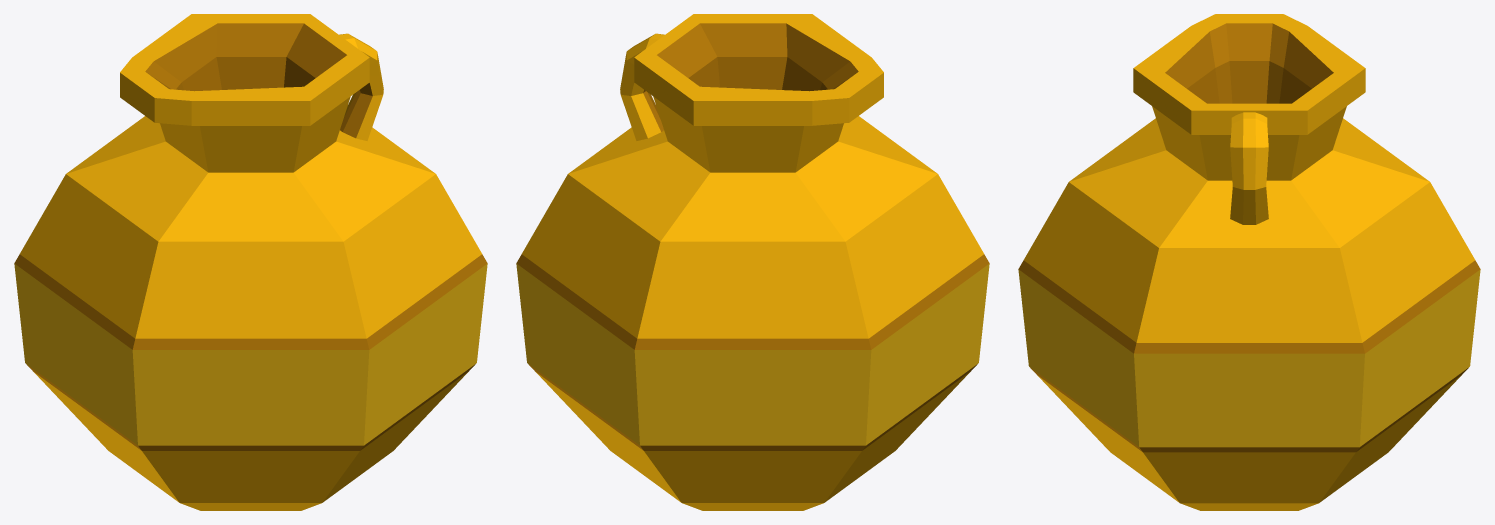
File: Vase_04.glb
3 renders of one model, left to right at view 1: azimuth 30°, elevation 25°; view 2: azimuth 150°, elevation 25°; view 3: azimuth 270°, elevation 25°, orthographic. The views are drawn at different scales.
Parts seen in each view (by area): view 1: Vase_04; view 2: Vase_04; view 3: Vase_04.
Part boxes in pixels (bbox=[...]): Vase_04: bbox=[14, 14, 487, 510]; Vase_04: bbox=[516, 14, 989, 510]; Vase_04: bbox=[1018, 14, 1480, 510].
Size of what is drawn, in the model's own units: 0.5065 by 0.5682 by 0.5849.
1 material, 1 textured.
